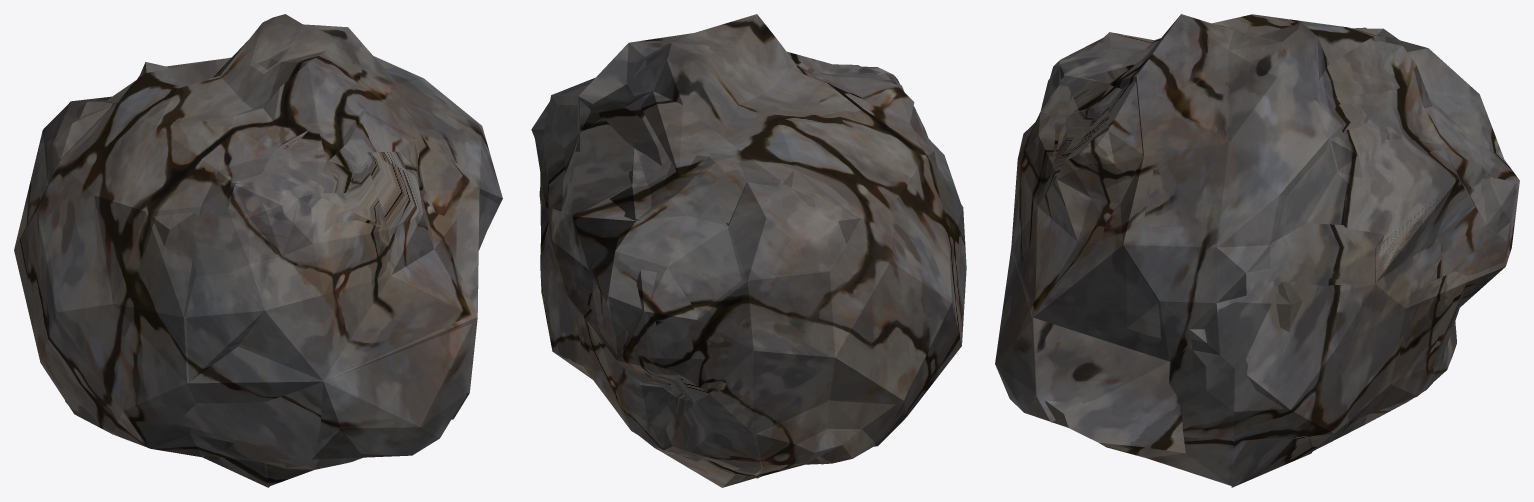
File: rock_m1.fbx
The picture shows the model from 3 angles, left to right: view 1: azimuth 30°, elevation 25°; view 2: azimuth 150°, elevation 25°; view 3: azimuth 270°, elevation 25°; orthographic projection. The views are drawn at different scales.
Visible parts, largest first — view 1: Rock1; view 2: Rock1; view 3: Rock1.
Boxes of the visible parts, x1,y1,x2,y2 form: Rock1: [14, 14, 502, 487]; Rock1: [531, 14, 966, 487]; Rock1: [995, 14, 1519, 487].
Size of the model in its own units: 2.32 by 2.14 by 2.31.
